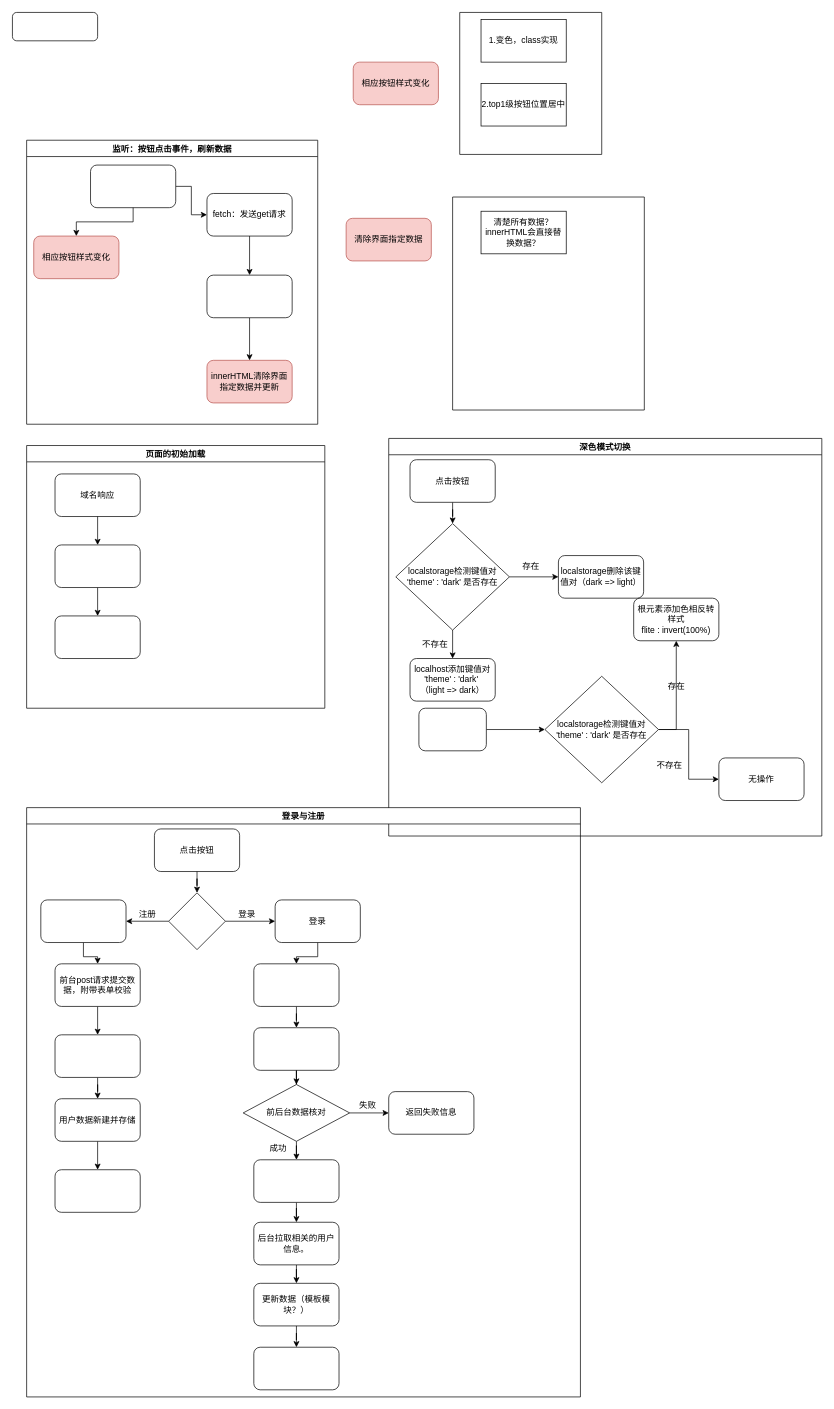
Image size: 834x1409. Some labels were removed from this diagram. The centre of each missing label's shape, as x and y in pixels:
html字符串通过innerHTML添加到页面: (x=97, y=637)
node.js后台提取相应文件的html字符串: (x=97, y=566)
其他页面加载完成后: (x=452, y=729)
前台post请求提交数据。: (x=296, y=984)
发送注册成功信息并重定向到登录页面: (x=97, y=1190)
发送登录成功信息，返回cookie: (x=296, y=1180)
后台拉取数据: (x=296, y=1048)
后台拉取数据，注意，此时数据为流传输。: (x=97, y=1055)
多页面刷新: (x=55, y=26)
展示注册表单页面: (x=83, y=921)
服务端读取html字符串: (x=249, y=296)
点击相应按钮: (x=133, y=186)
选择操作: (x=196, y=921)
重定向到主页: (x=296, y=1368)
